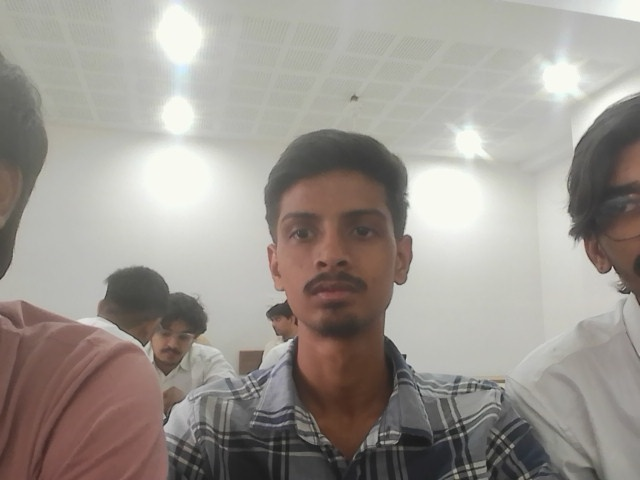light_on: (443, 114, 495, 165), (151, 87, 203, 133), (542, 66, 570, 94), (615, 5, 636, 25)
person: (160, 130, 499, 479), (0, 31, 166, 478), (489, 102, 639, 479), (103, 280, 187, 426), (154, 293, 237, 404), (256, 303, 296, 373)
